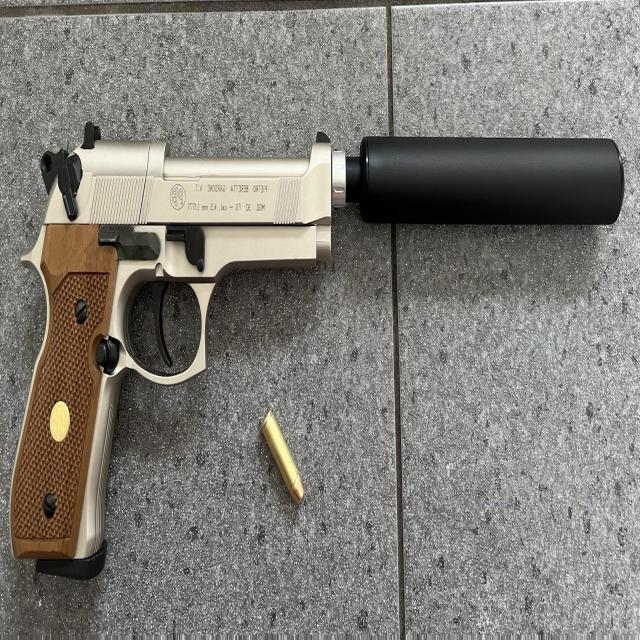Gun: (4, 110, 624, 580)
